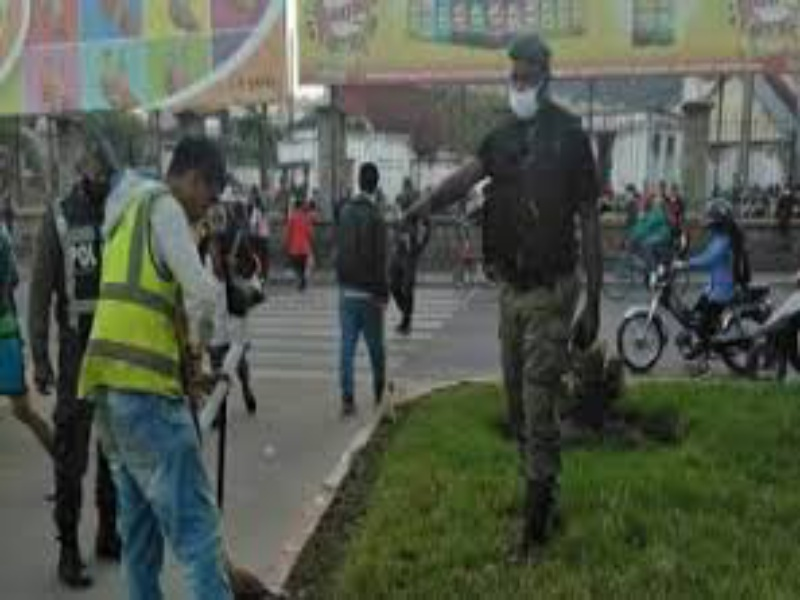ManaoArotava: (496, 26, 558, 124)
